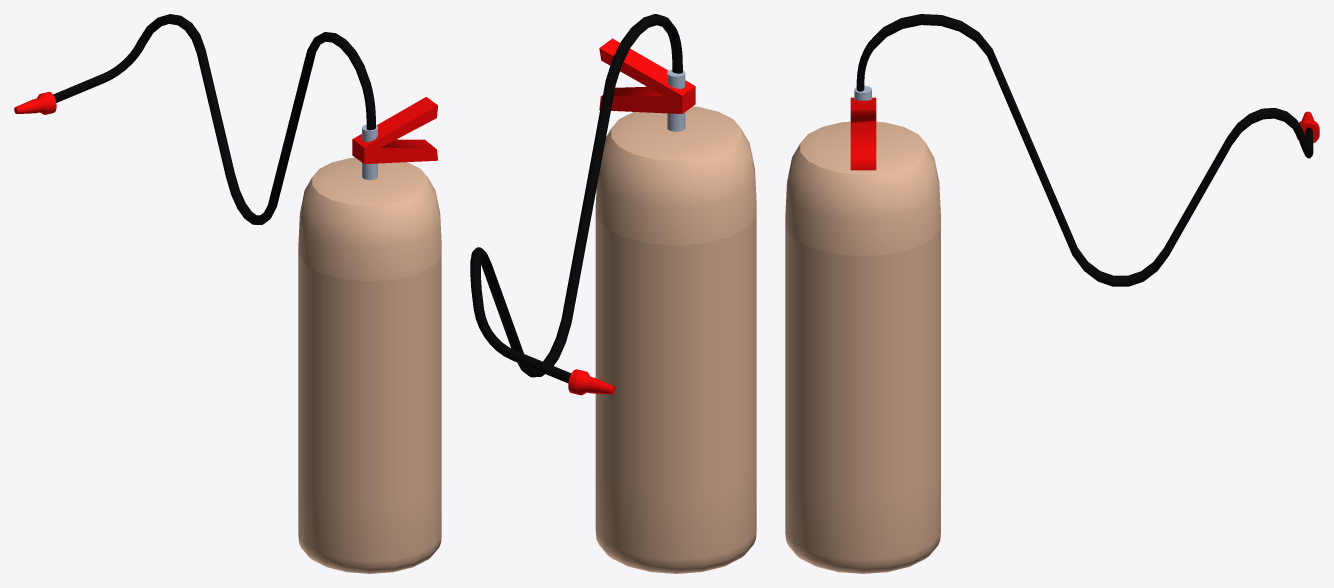
File: Water_FPS.obj
3 views of the same model, side by side, from view 1: azimuth 30°, elevation 25°; view 2: azimuth 150°, elevation 25°; view 3: azimuth 270°, elevation 25° (orthographic). The views are drawn at different scales.
Parts seen in each view (by area): view 1: Cylinder001, Line002, Box001, Cylinder003; view 2: Cylinder001, Line002, Box001, Cylinder003, Cylinder002; view 3: Cylinder001, Line002, Box001.
Part boxes in pixels (box(x1,y1,x2,y2)): Cylinder001: box(298, 157, 441, 573); Line002: box(53, 14, 375, 224); Box001: box(352, 97, 437, 163); Cylinder003: box(14, 91, 56, 114); Cylinder001: box(595, 106, 756, 573); Line002: box(470, 14, 682, 383); Box001: box(599, 38, 695, 113); Cylinder003: box(568, 369, 615, 395); Cylinder002: box(667, 69, 685, 131); Cylinder001: box(785, 121, 940, 573); Line002: box(856, 14, 1313, 286); Box001: box(850, 97, 876, 170).
Bounding box in the file's own units: 0.6002 × 1.32 × 1.2.
